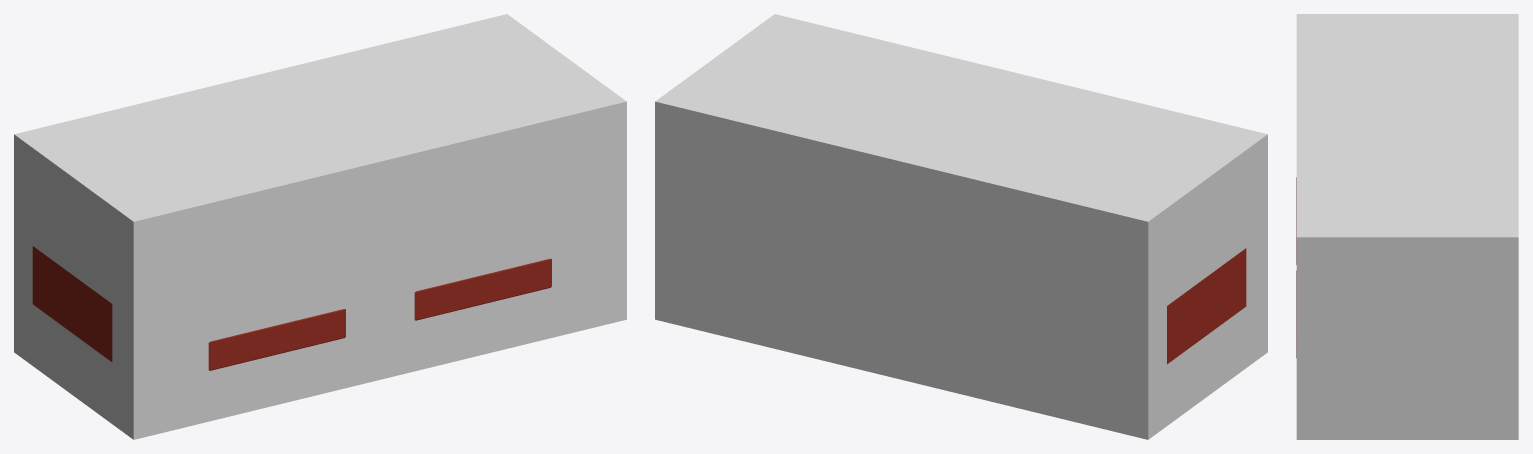
File: sofa-a.glb
The picture shows the model from 3 angles, left to right: view 1: azimuth 30°, elevation 25°; view 2: azimuth 150°, elevation 25°; view 3: azimuth 270°, elevation 25°; orthographic projection. The views are drawn at different scales.
Parts seen in each view (by area): view 1: Sofa A_col, Sofa A; view 2: Sofa A_col, Sofa A; view 3: Sofa A_col.
Boxes of the visible parts, x1,y1,x2,y2 form: Sofa A_col: [14, 14, 626, 439]; Sofa A: [32, 246, 551, 370]; Sofa A_col: [655, 14, 1267, 439]; Sofa A: [1167, 248, 1246, 364]; Sofa A_col: [1296, 14, 1518, 439].
Bounding box in the file's own units: 10.41 × 4.43 × 4.38.
